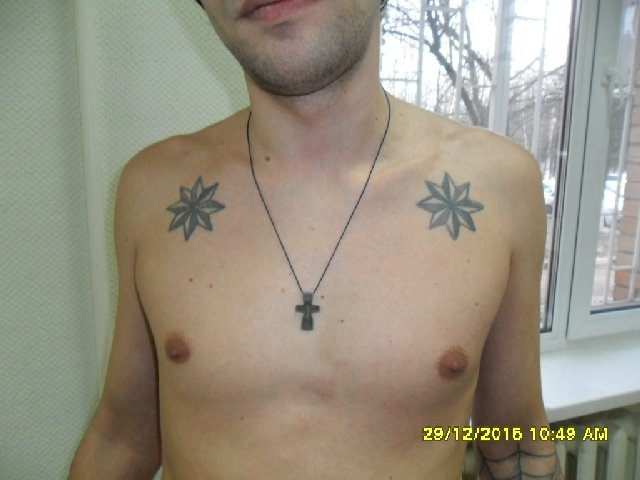tatu4_zvezda: (413, 172, 486, 245), (165, 176, 226, 247)
